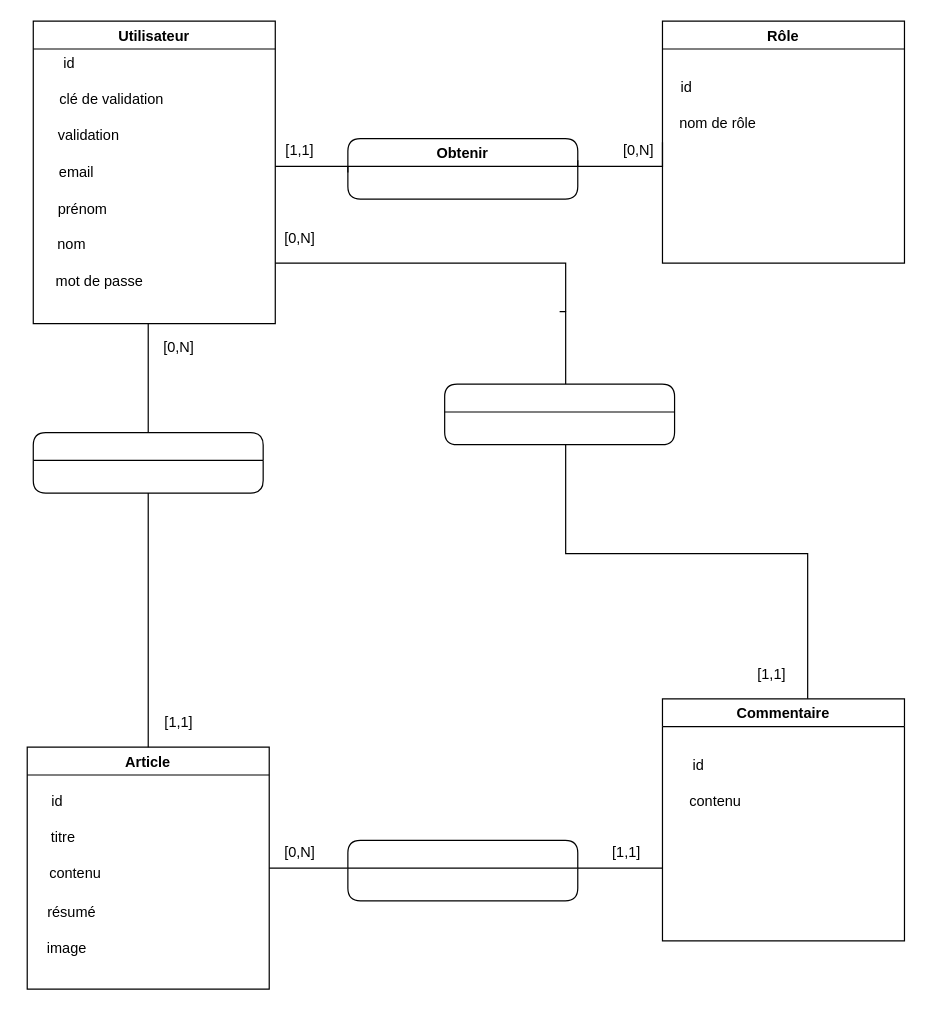
Image size: 926x1010. Some labels were removed from this diagram. The shapes that lost their labels are listed below. From the top down, each one's centre as x and y in pixels, then its label:
[559,414]: Ecrire
[147,462]: Rédiger
[462,870]: Contenir
